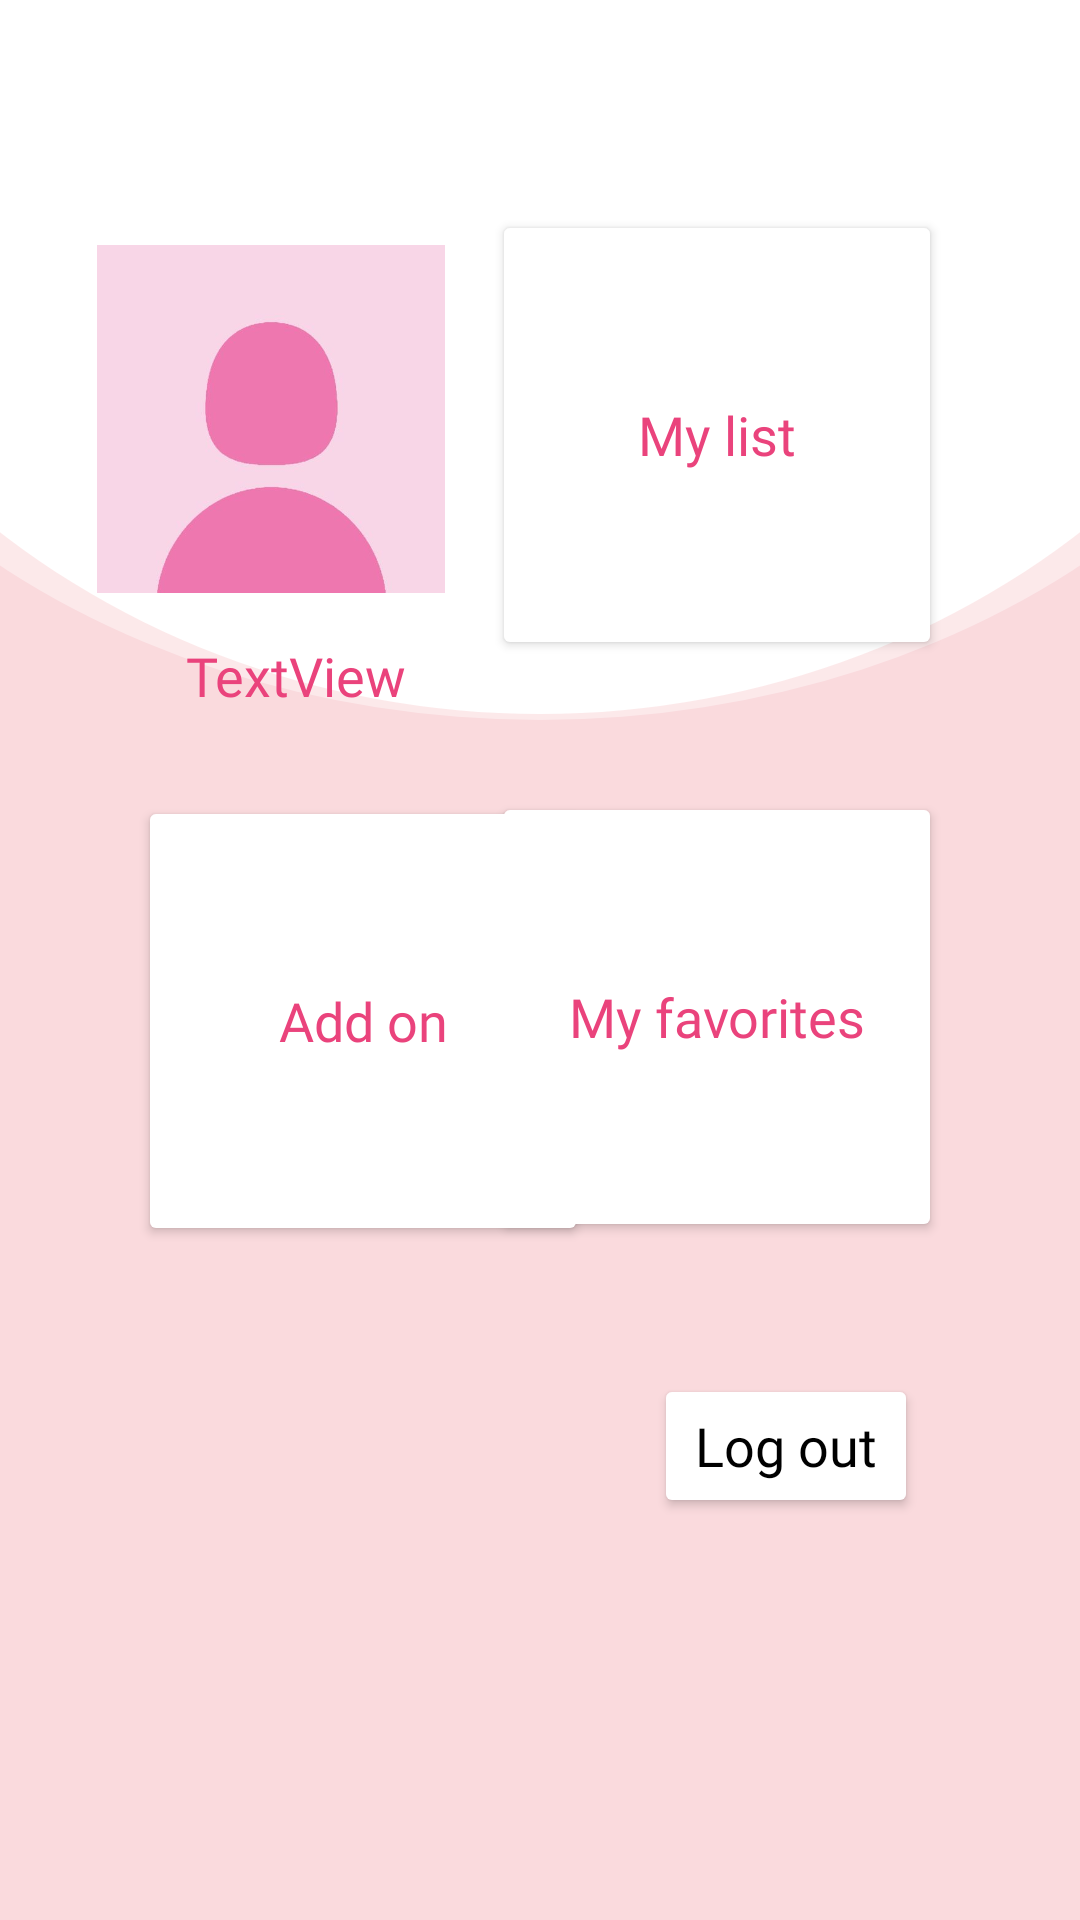

Locate icon controls on the screen. Image size 1080px×1920px, boxes as [left=x1, top=y1, right=x2, bottom=y2].
profile: [left=97, top=245, right=445, bottom=593]
